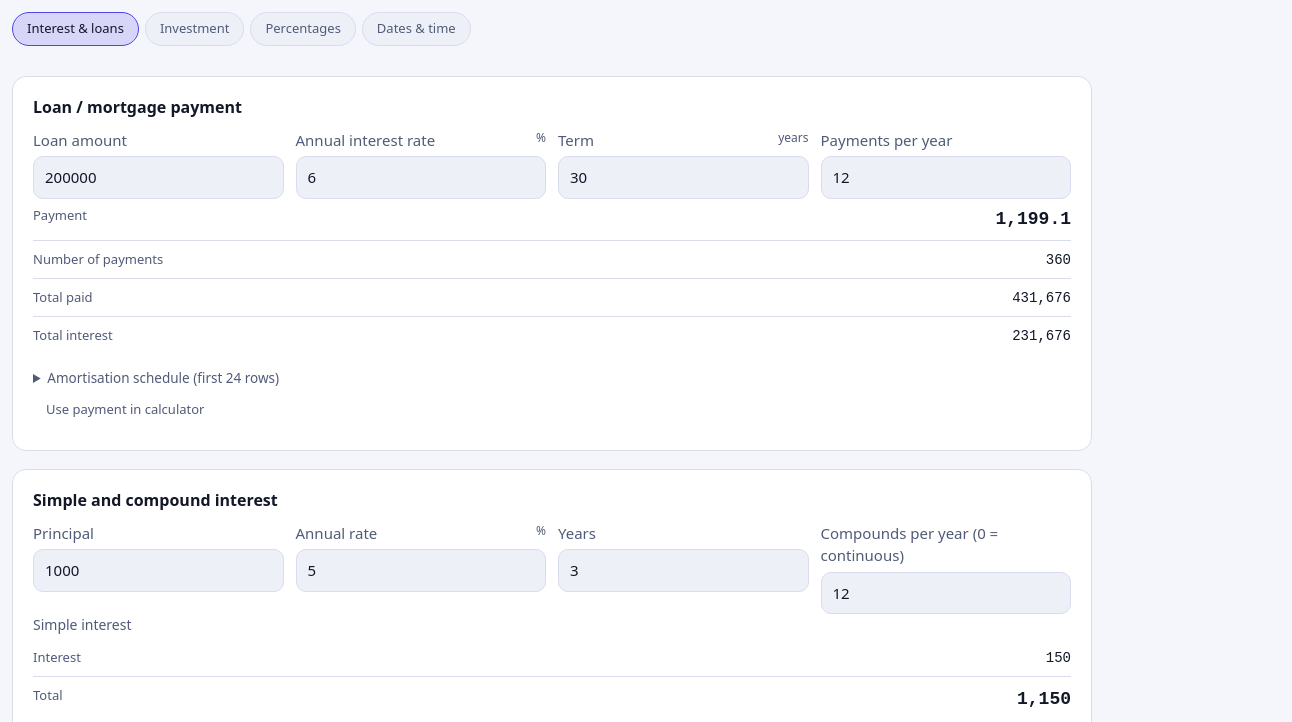
Test: finance panel › rejects an impossible loan
Replace the text in the number field labelled "Loan amount" with "0" at (158, 177), box [33, 156, 284, 198]
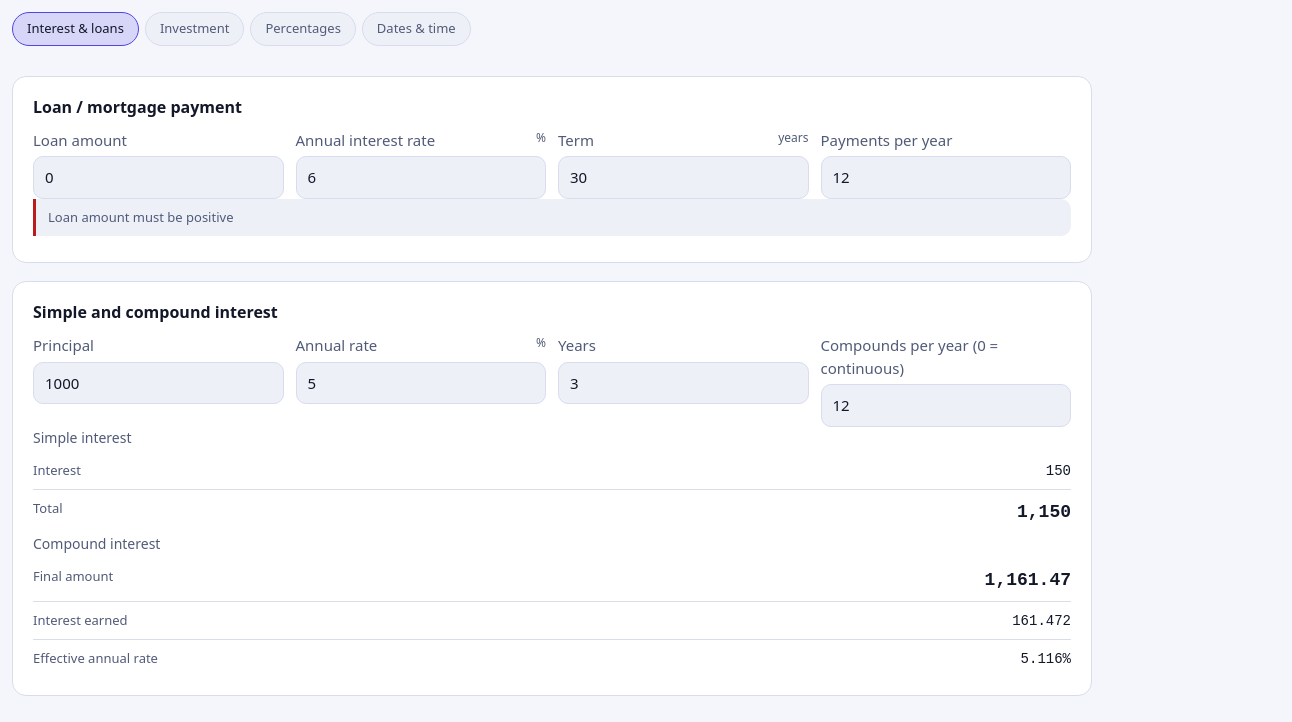
Now the text "Loan amount must be positive" is shown, box [33, 198, 1071, 236]
